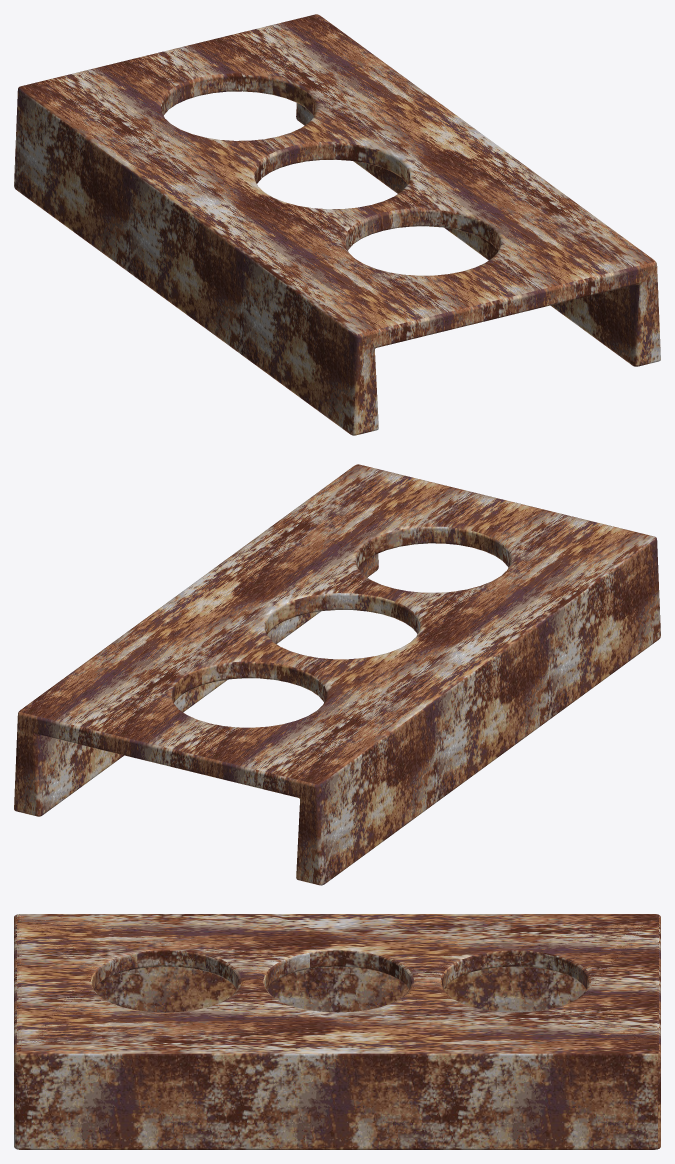
Rendered from Scrap_parts_metal_scrap1.0.glb.
The picture shows the model from 3 angles, top to bottom: view 1: azimuth 30°, elevation 25°; view 2: azimuth 150°, elevation 25°; view 3: azimuth 270°, elevation 25°; orthographic projection. The views are drawn at different scales.
Visible parts, largest first — view 1: Plane; view 2: Plane; view 3: Plane.
Part boxes in pixels (bbox=[...]): Plane: bbox=[14, 14, 660, 435]; Plane: bbox=[14, 464, 660, 885]; Plane: bbox=[14, 914, 660, 1149].
Bounding box in the file's own units: 1.55 × 0.4854 × 2.95.
1 material, 1 textured.
